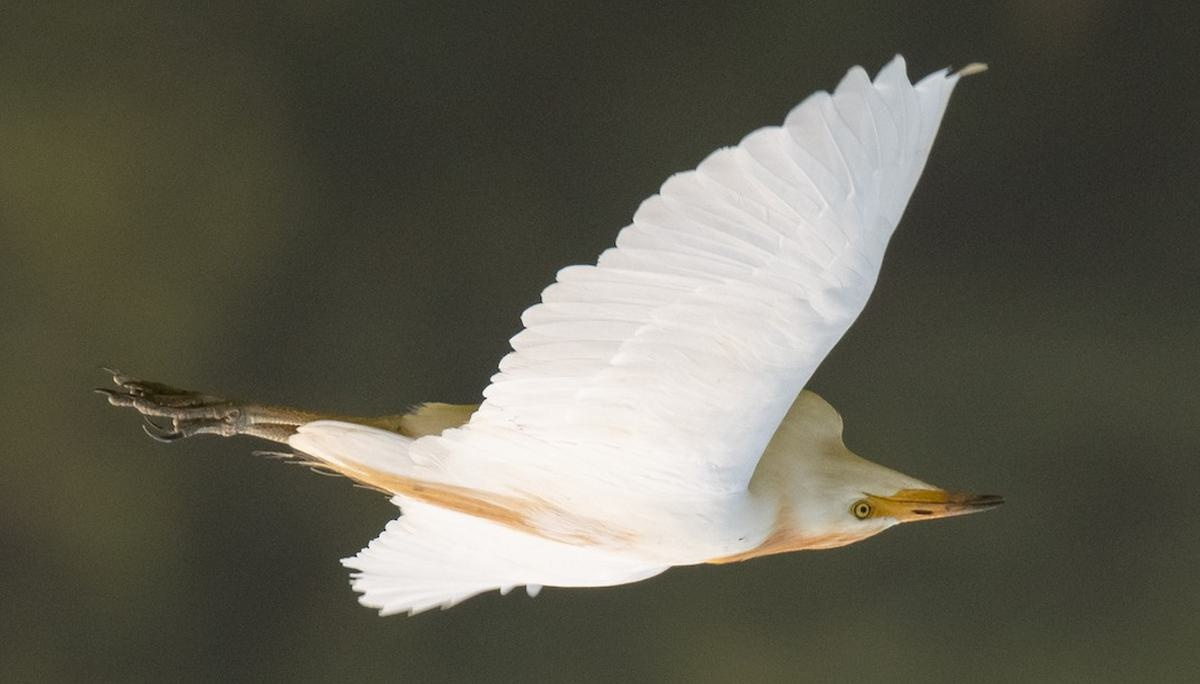egret: (88, 34, 1055, 632)
